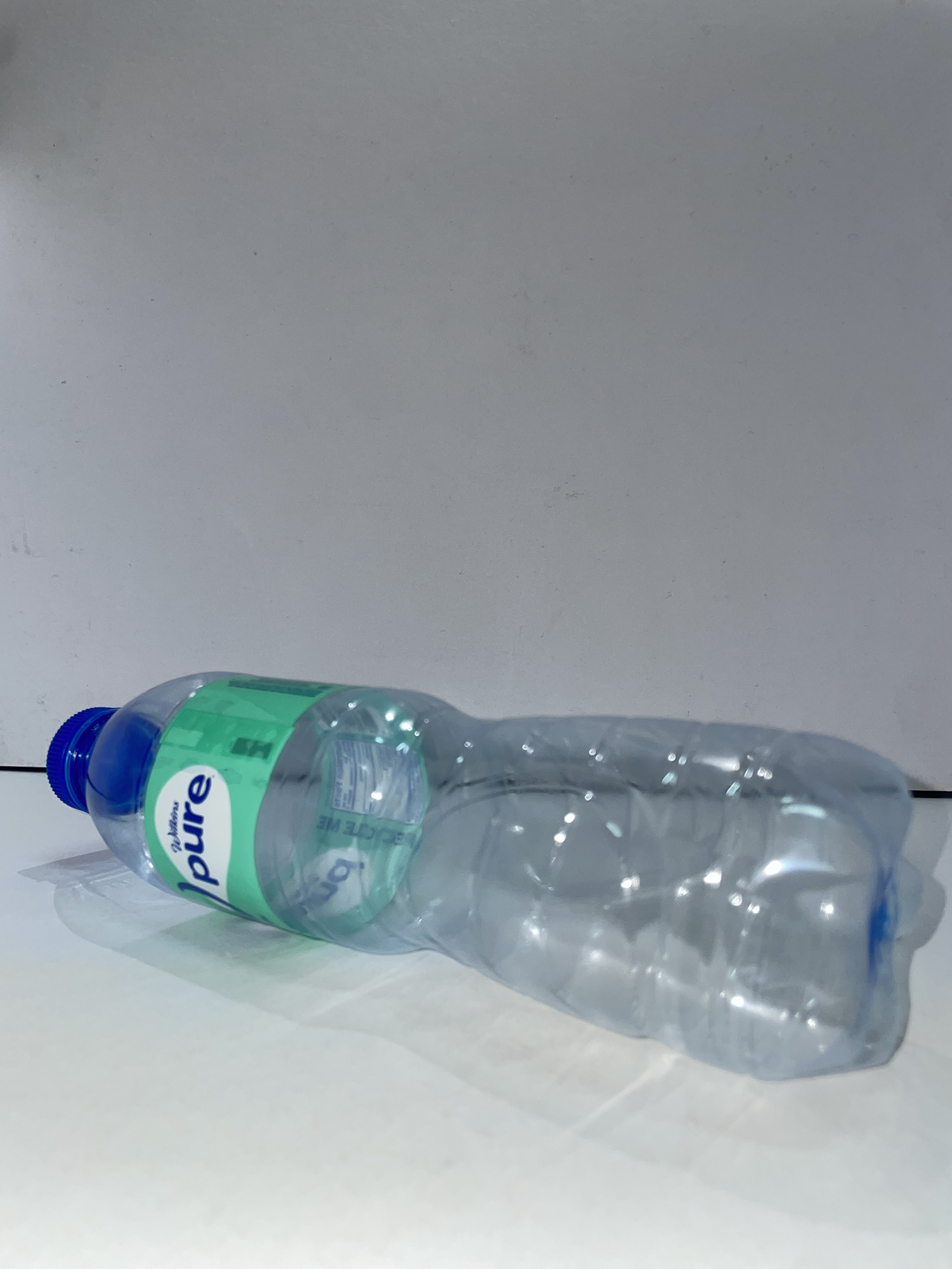wilkins pure 500ml: (47, 674, 919, 1079)
